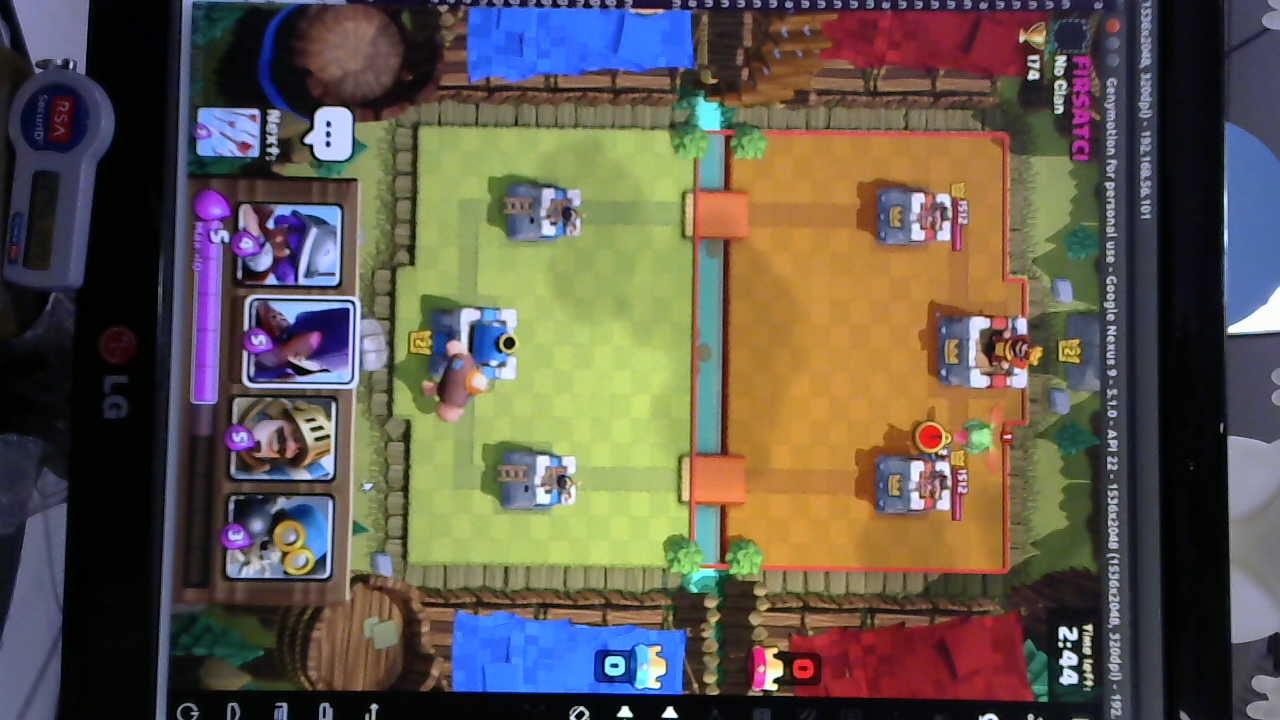dragonE: (911, 410, 1005, 465)
